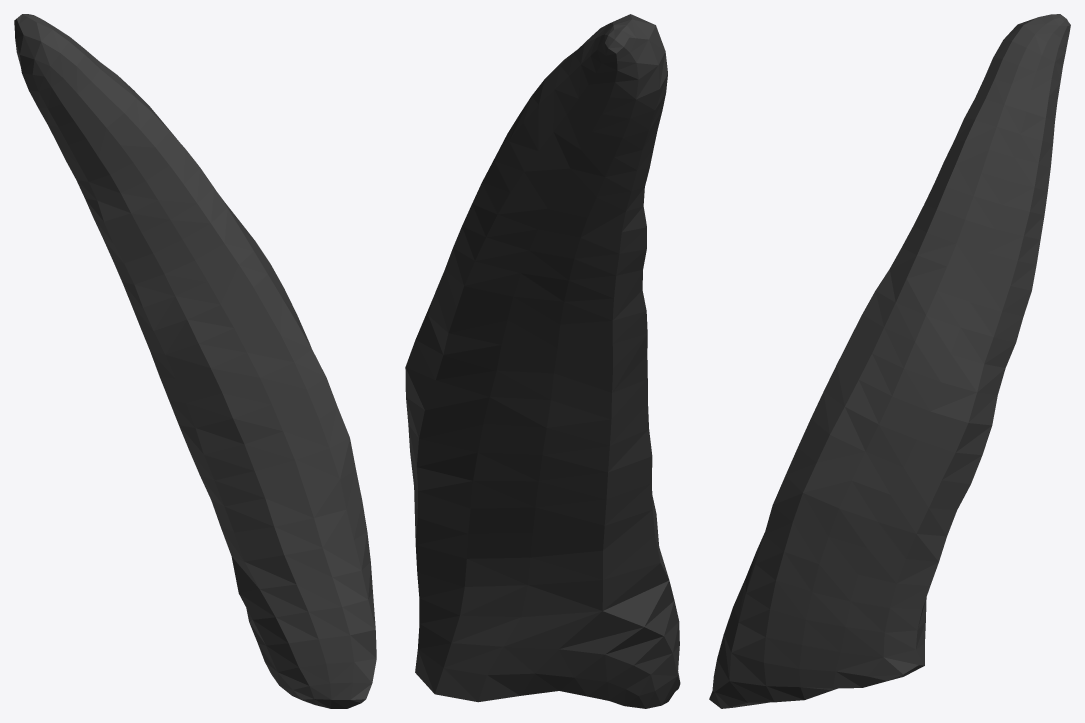
File: R_max_I3_copy000.glb
3 views of the same model, side by side, from view 1: azimuth 30°, elevation 25°; view 2: azimuth 150°, elevation 25°; view 3: azimuth 270°, elevation 25° (orthographic). The views are drawn at different scales.
Parts seen in each view (by area): view 1: R_max_I3_copy000; view 2: R_max_I3_copy000; view 3: R_max_I3_copy000.
Part boxes in pixels (x1,y1,x2,y2): R_max_I3_copy000: (14, 14, 376, 708); R_max_I3_copy000: (405, 14, 680, 708); R_max_I3_copy000: (709, 14, 1070, 708).
Bounding box in the file's own units: 0.3723 × 0.9287 × 0.4963.
1 material, 1 textured.
